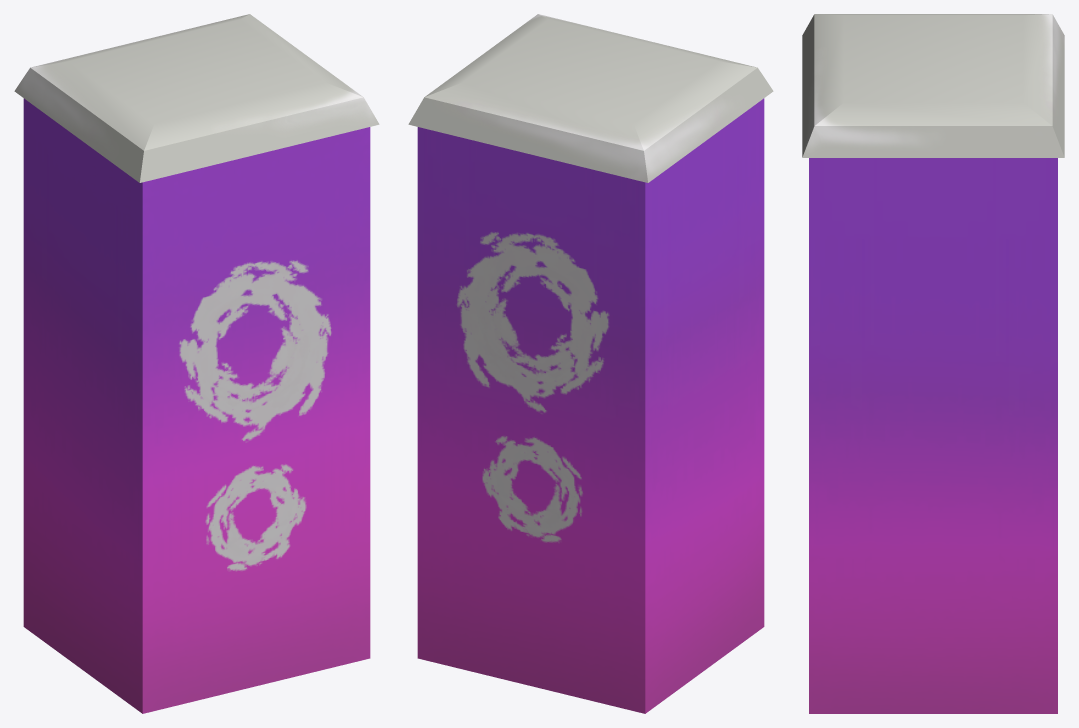
Rendered from Food_Box2A.fbx.
3 renders of one model, left to right at view 1: azimuth 30°, elevation 25°; view 2: azimuth 150°, elevation 25°; view 3: azimuth 270°, elevation 25°, orthographic. The views are drawn at different scales.
Visible parts, largest first — view 1: pCube5; view 2: pCube5; view 3: pCube5.
Boxes of the visible parts, x1,y1,x2,y2 form: pCube5: [14, 14, 379, 713]; pCube5: [408, 14, 773, 713]; pCube5: [802, 14, 1064, 713].
Bounding box in the file's own units: 9.56 × 21.72 × 8.66.
Materials: 1 (1 with a texture image).
